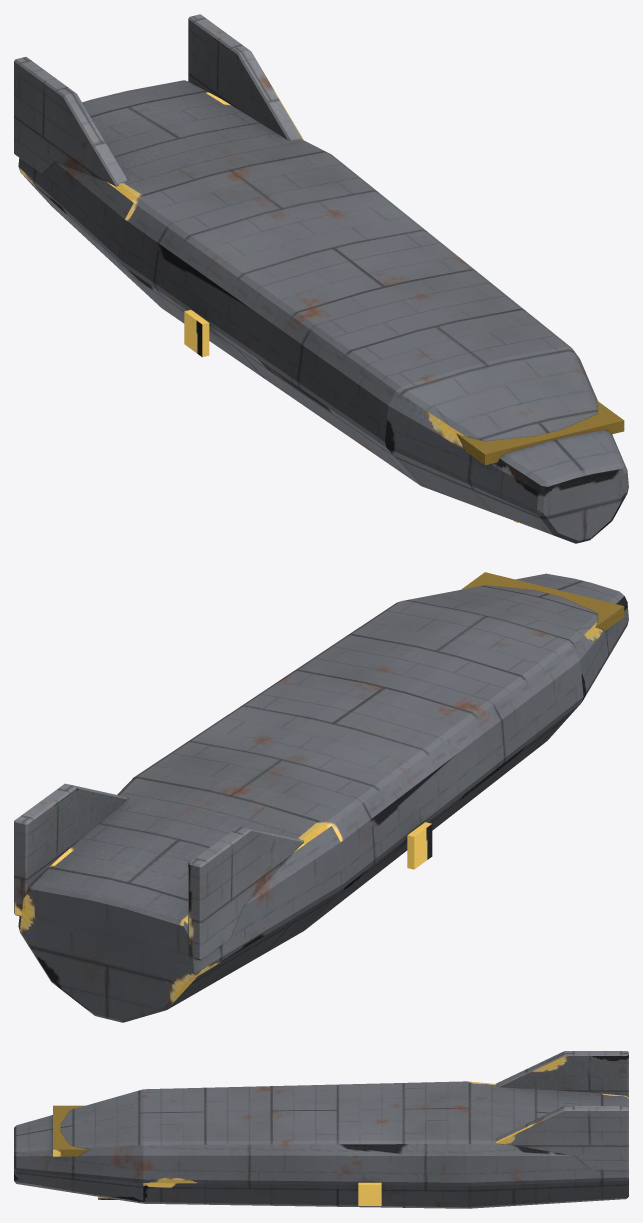
Rendered from grael_craft.glb.
3 renders of one model, top to bottom at view 1: azimuth 30°, elevation 25°; view 2: azimuth 150°, elevation 25°; view 3: azimuth 270°, elevation 25°, orthographic. The views are drawn at different scales.
Parts seen in each view (by area): view 1: HULL, SYS_REACTOR; view 2: HULL, SYS_REACTOR; view 3: HULL, SYS_REACTOR.
Boxes of the visible parts, x1=… form: HULL: x1=14, y1=14, x2=628, y2=543; SYS_REACTOR: x1=184, y1=310, x2=209, y2=357; HULL: x1=14, y1=572, x2=628, y2=1022; SYS_REACTOR: x1=407, y1=822, x2=432, y2=869; HULL: x1=14, y1=1051, x2=628, y2=1208; SYS_REACTOR: x1=358, y1=1182, x2=381, y2=1205.
Bounding box in the file's own units: 1.39 × 1.11 × 5.02.
Materials: 1 (1 with a texture image).
